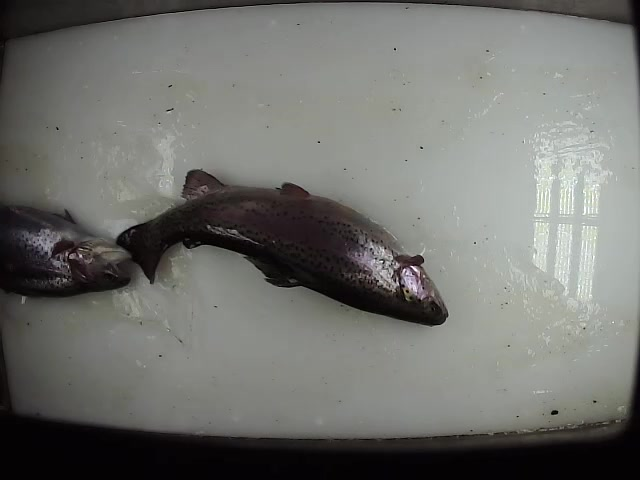fish: (115, 164, 450, 327), (1, 203, 135, 299)
